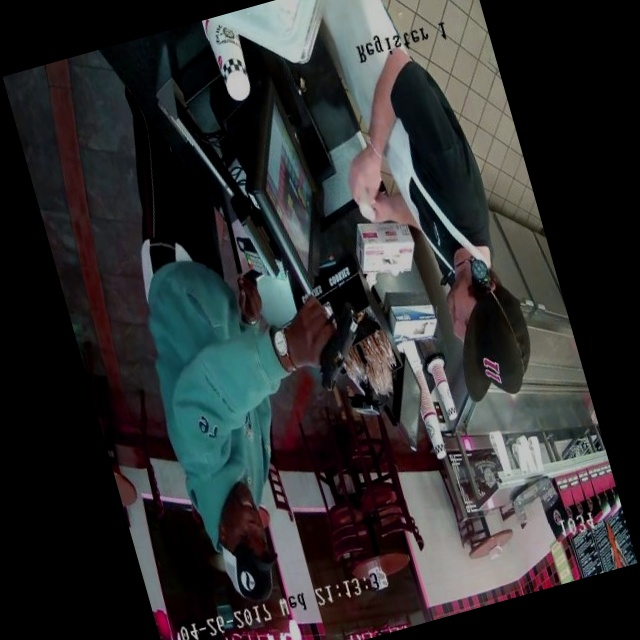gun: (282, 287, 392, 406)
